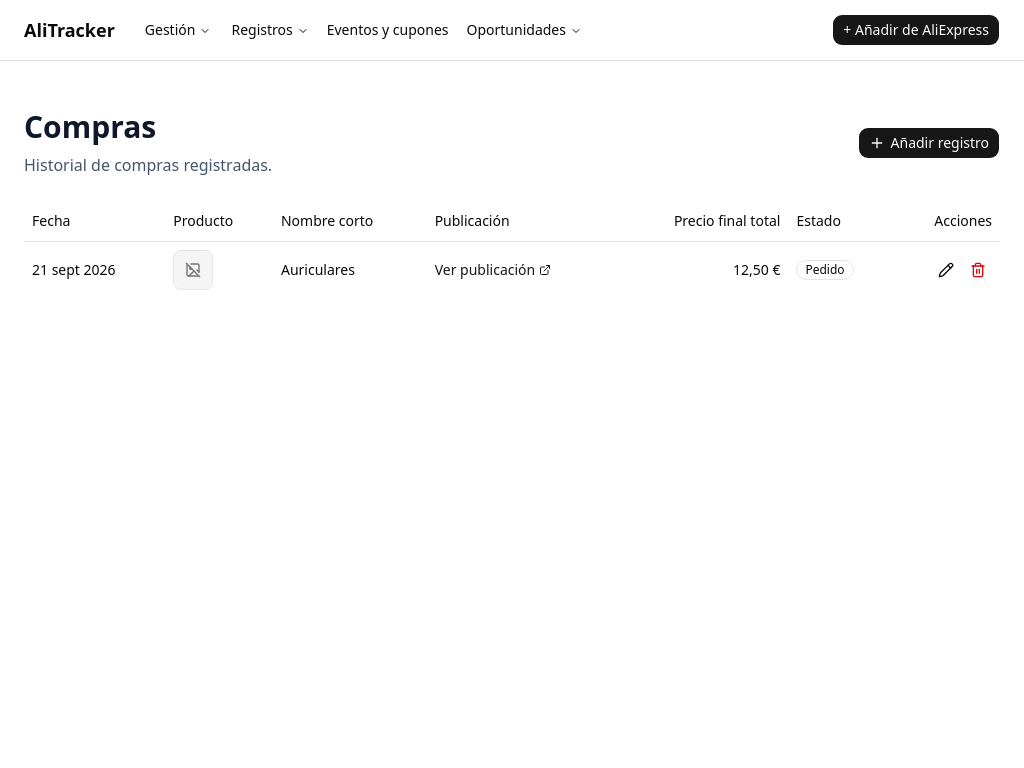
Scenario: transaction pages › shows the paginated purchase history and opens a form with the ordered status by default
The image size is (1024, 768).
Expected: the text "Auriculares" is shown, left=273, top=241, right=427, bottom=298
Click the button "Añadir registro": coordinates (929, 143) left=858, top=127, right=1000, bottom=159
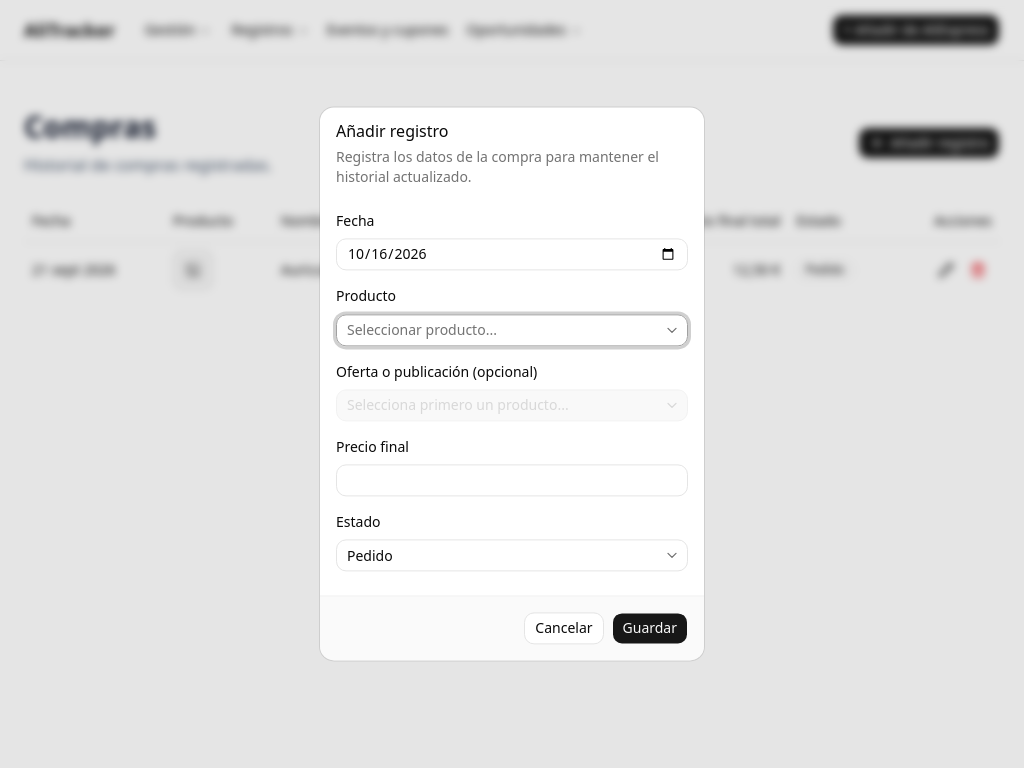
Expected: the heading "Añadir registro" is shown, left=336, top=120, right=448, bottom=142
Expected: the dropdown named "Seleccionar estado" holds "Pedido", left=337, top=540, right=660, bottom=572
